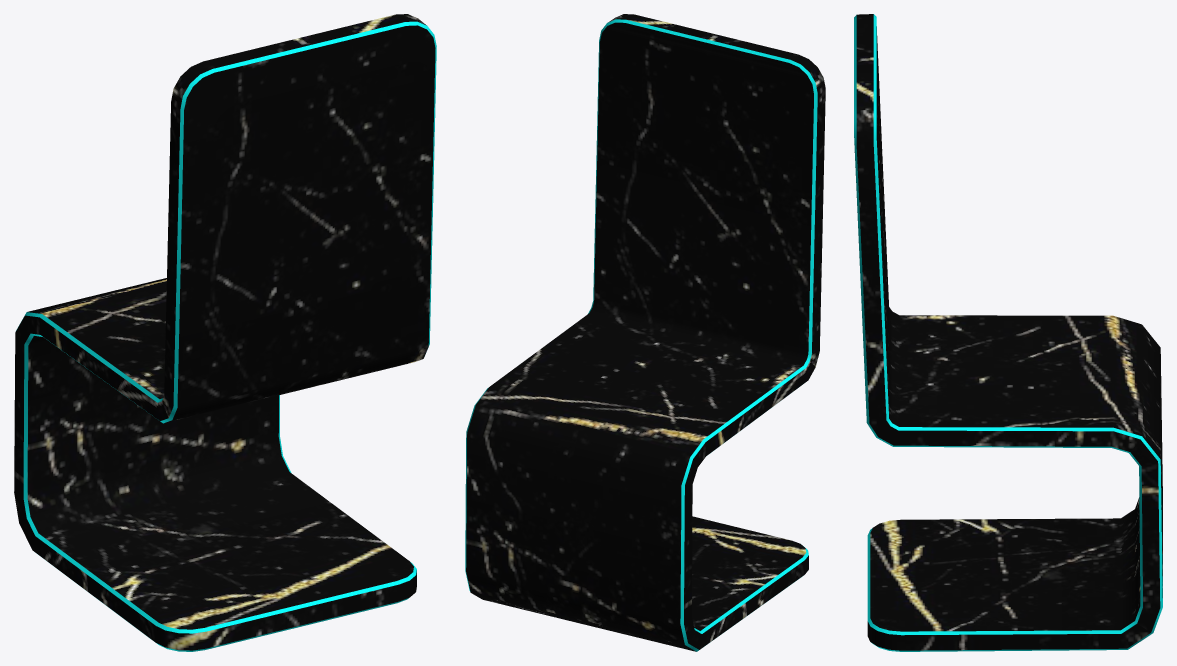
The model's file is FUR0310002.fbx.
3 renders of one model, left to right at view 1: azimuth 30°, elevation 25°; view 2: azimuth 150°, elevation 25°; view 3: azimuth 270°, elevation 25°, orthographic. The views are drawn at different scales.
Visible parts, largest first — view 1: smFUR0310002; view 2: smFUR0310002; view 3: smFUR0310002.
Part boxes in pixels (x1,y1,x2,y2): smFUR0310002: [14, 14, 436, 651]; smFUR0310002: [465, 14, 825, 651]; smFUR0310002: [854, 14, 1162, 651].
Size of the model in its own units: 63.98 by 140 by 73.17.
1 material, 1 textured.
